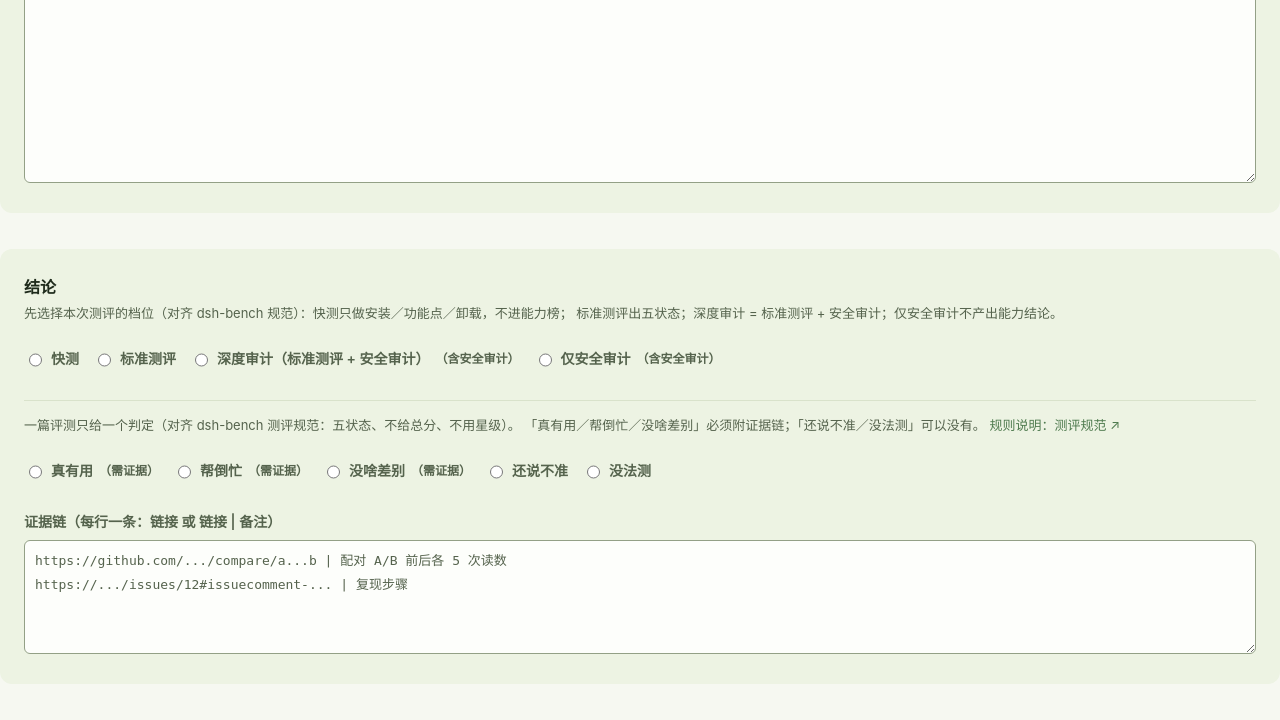
Test: 评测编辑器 · 提交前判定必填 › 选了「没法测」再提交：正常保存并提交（校验不误伤合法路径）
The width and height of the screenshot is (1280, 720).
(page scrolled)
Click the radio button labelled "快测" at (36, 360), box left=29, top=340, right=42, bottom=380
(page scrolled)
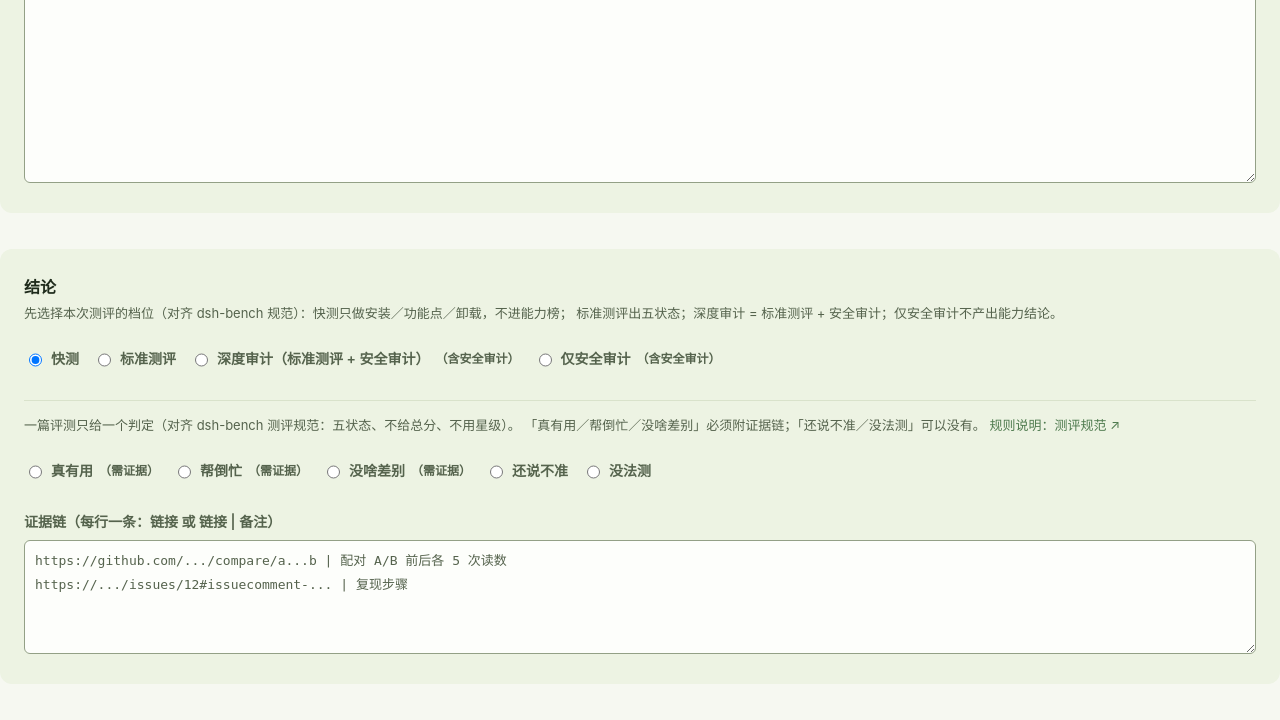
Click the radio button labelled "没法测" at (594, 472), box left=587, top=452, right=600, bottom=492
(page scrolled)
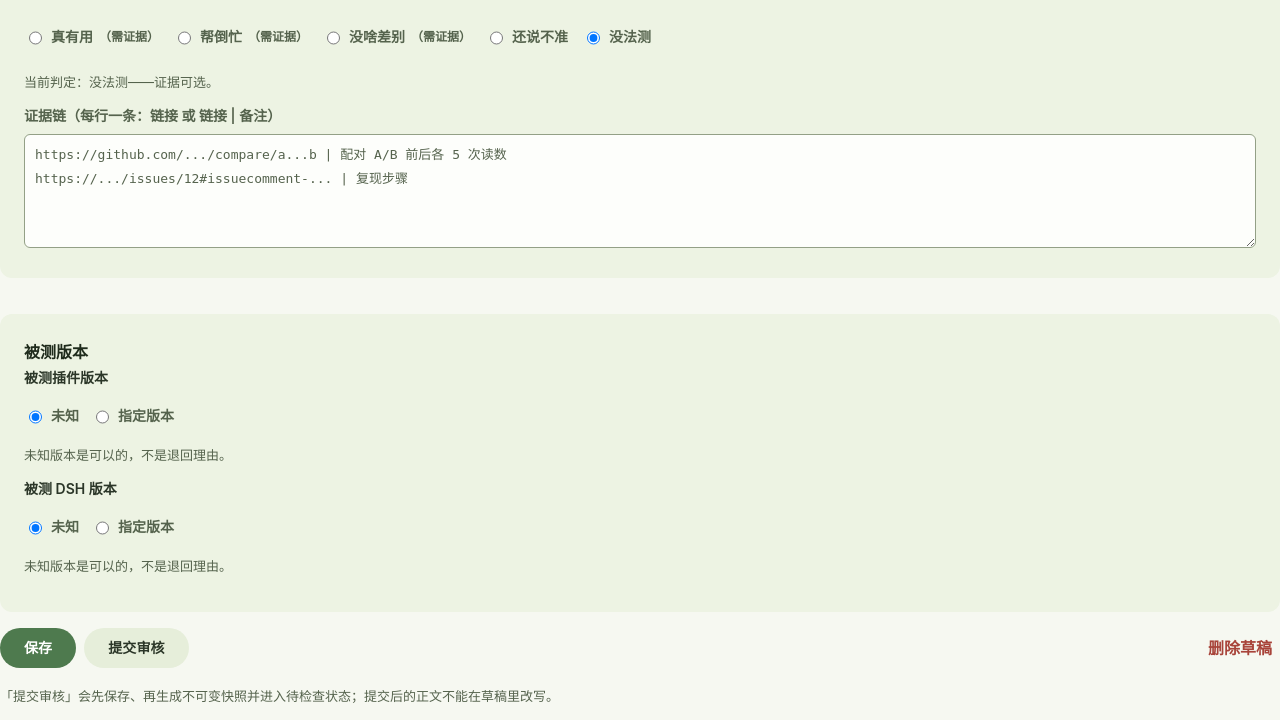
Click the button "提交审核" at (136, 648), box left=84, top=628, right=189, bottom=668
(page scrolled)
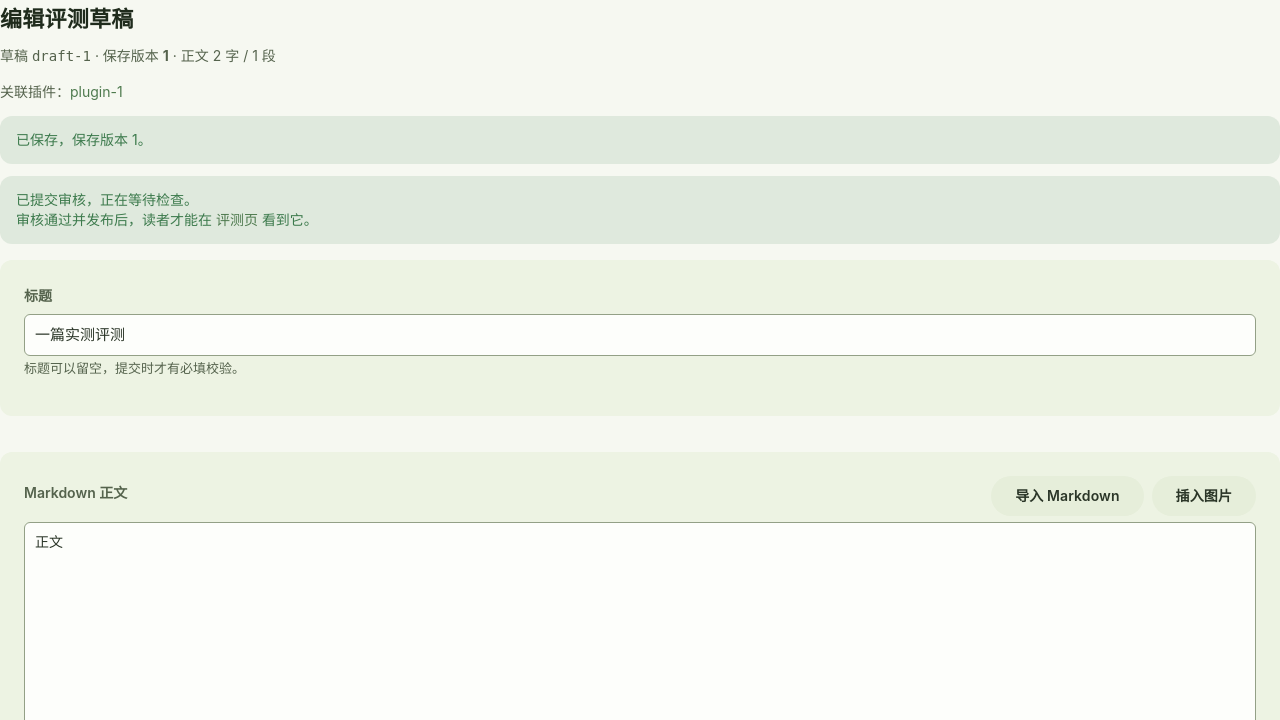
Now the text "已提交审核，正在等待检查。审核通过并发布后，读者才能在 评测页 看到它。" is shown, box left=0, top=176, right=1279, bottom=244
